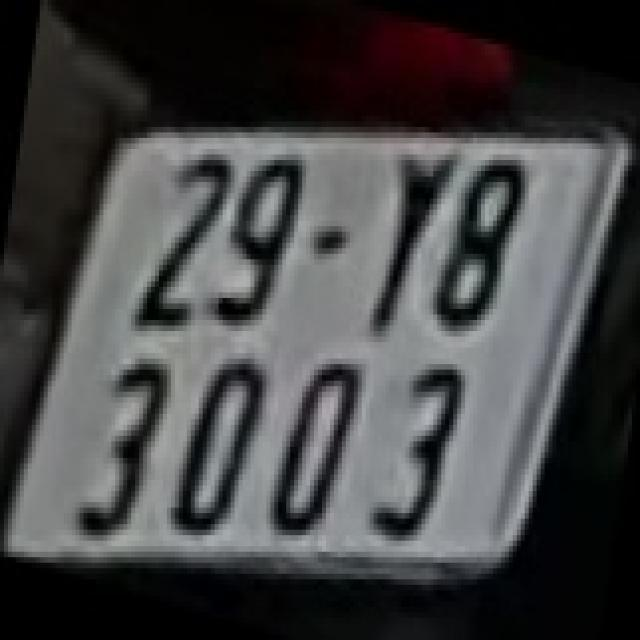0: (170, 358, 262, 536), (270, 358, 362, 536)
2: (136, 149, 227, 331)
3: (370, 358, 466, 540), (75, 353, 167, 541)
8: (440, 140, 534, 334)
9: (215, 154, 302, 326)
Y: (360, 146, 460, 334)
